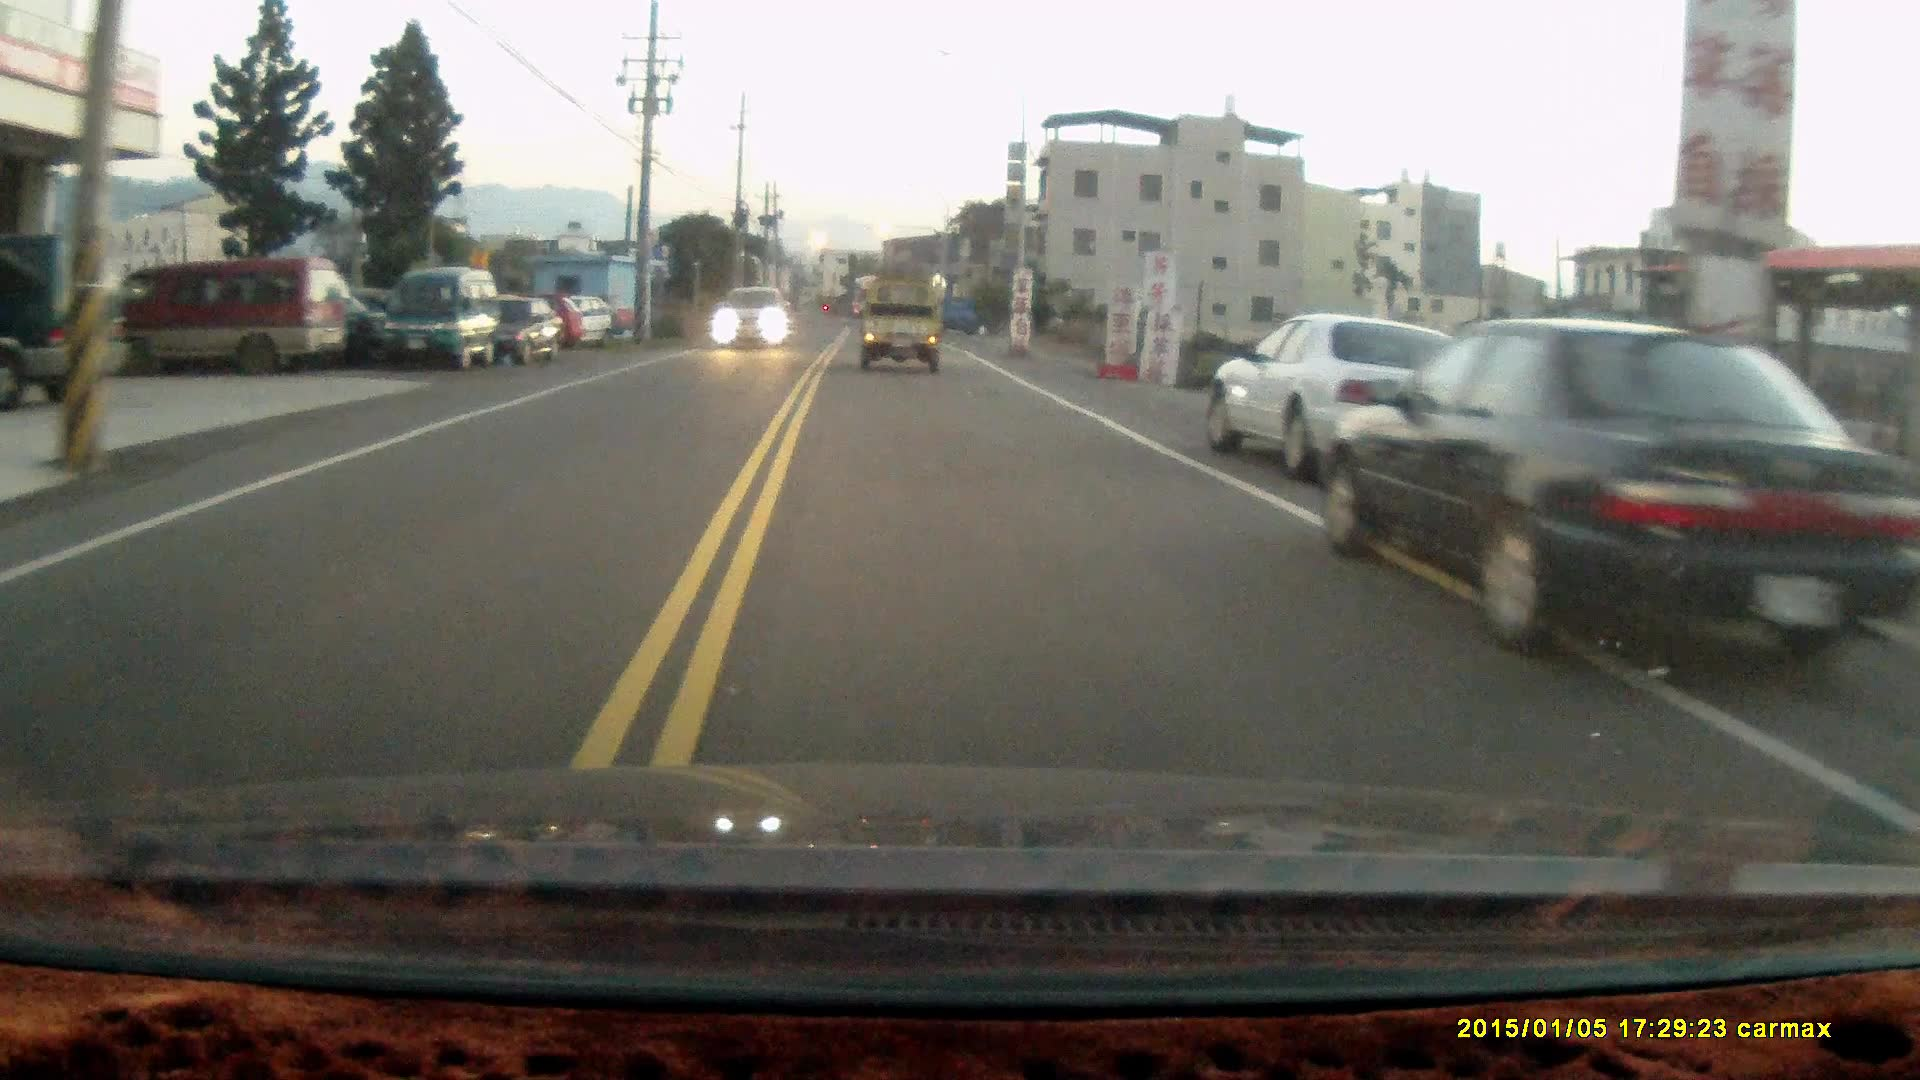vehicle: (1327, 320, 1840, 723), (1204, 316, 1462, 473), (87, 255, 351, 378), (0, 241, 136, 400), (378, 269, 504, 375), (862, 281, 942, 372), (480, 295, 562, 371), (709, 287, 789, 352)
